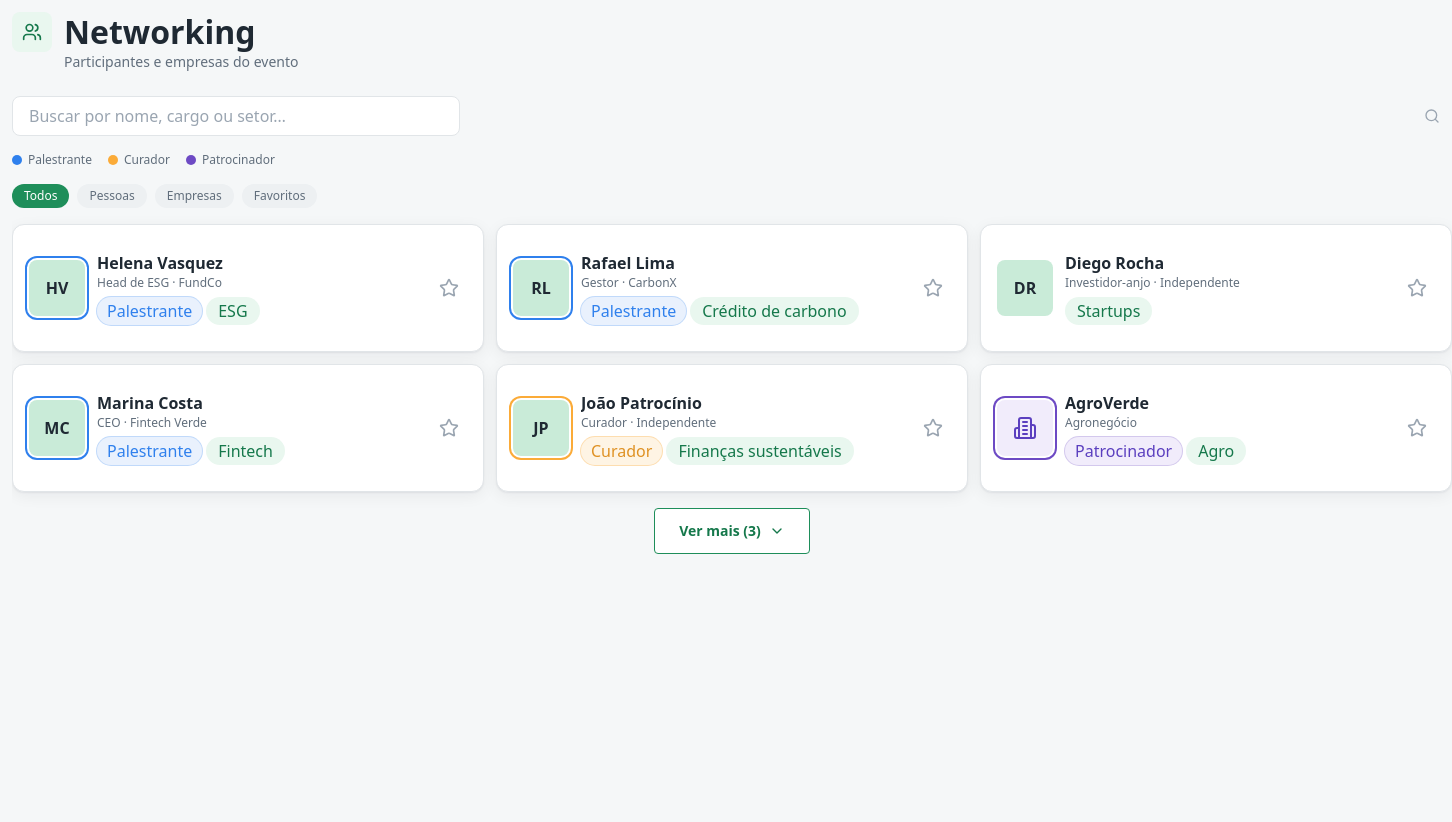
Test: Networking › 'ver mais' abre a lista inteira e volta a recolher
What coordinates should you click on to do the following:
click the button "Ver mais (3)"
I would click on:
 (732, 531)
Its box is [654,508,810,554].
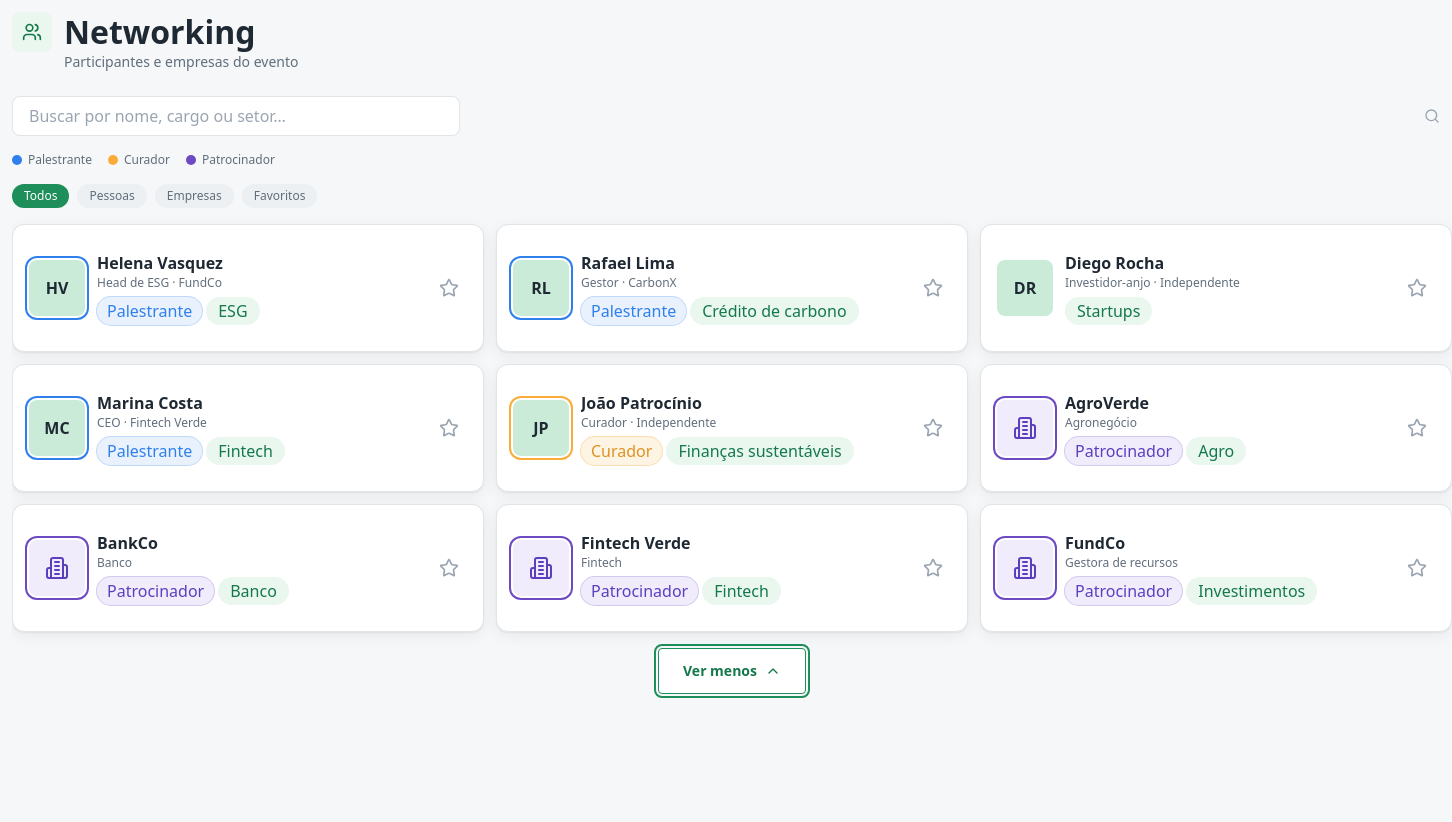
Check: the number of list items is 9
What coordinates should you click on to do the following:
click the button "Ver menos"
I would click on:
 (732, 671)
Its box is [658,648,806,694].
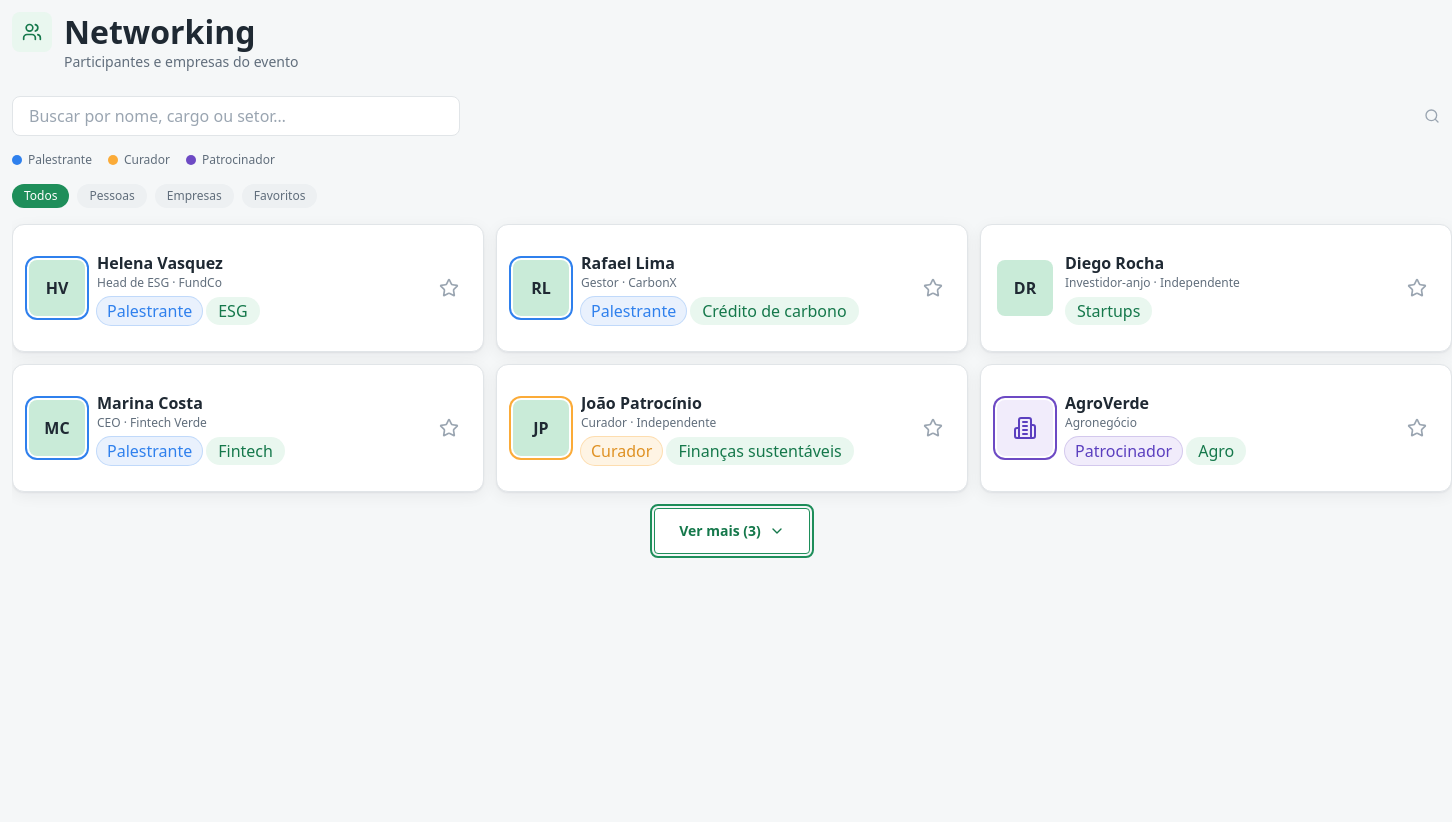
Check: the number of list items is 6, box [12,224,484,352]; [496,224,968,352]; [980,224,1451,352]; [12,364,484,492]; [496,364,968,492]; [980,364,1451,492]
